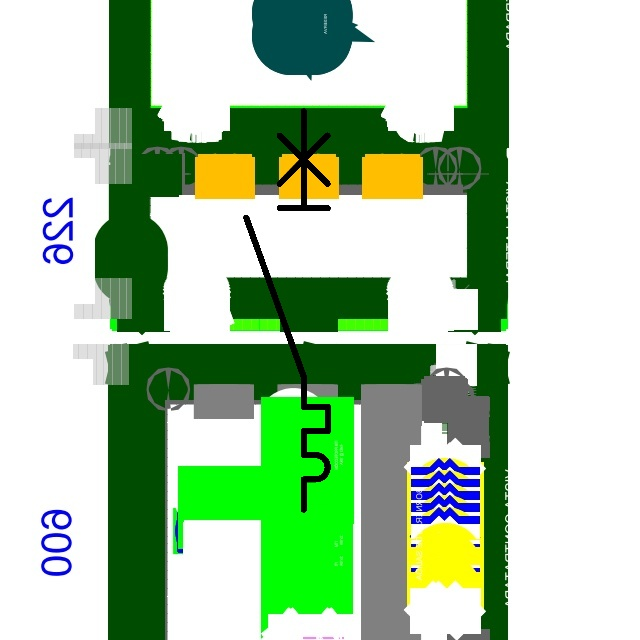interruptor_termomagnetico: (236, 101, 338, 520)
